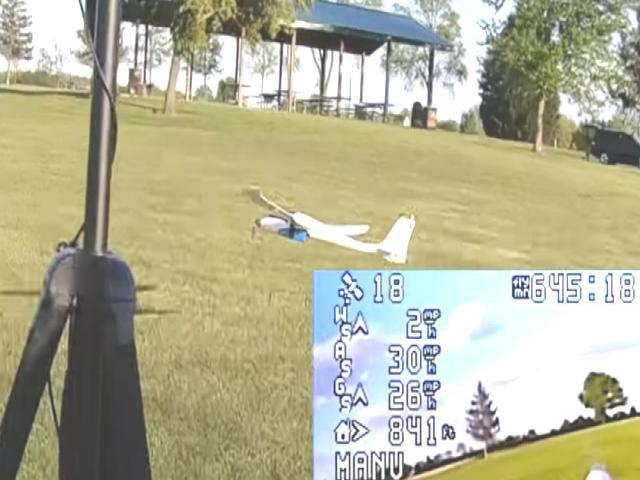iha: (246, 186, 414, 264)
